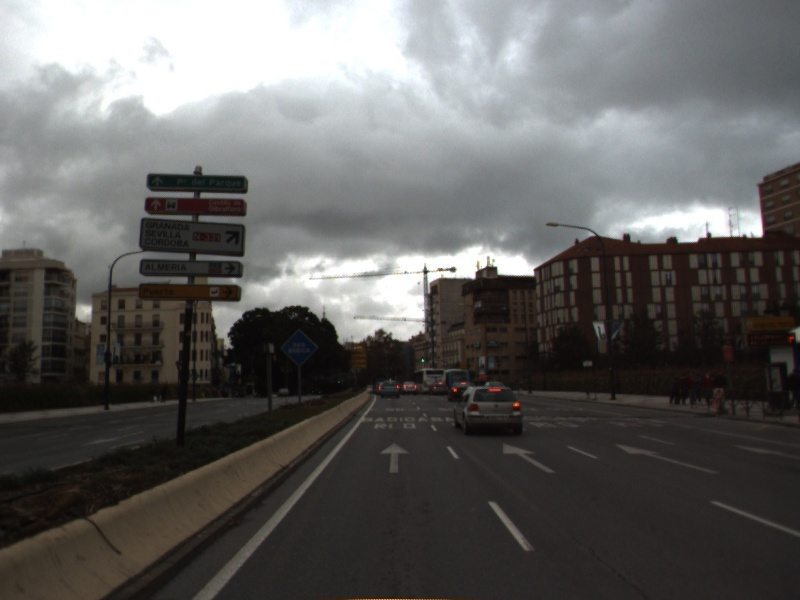STRAIGHT: (612, 441, 722, 476), (500, 441, 560, 476), (729, 441, 800, 461), (378, 440, 413, 475)
